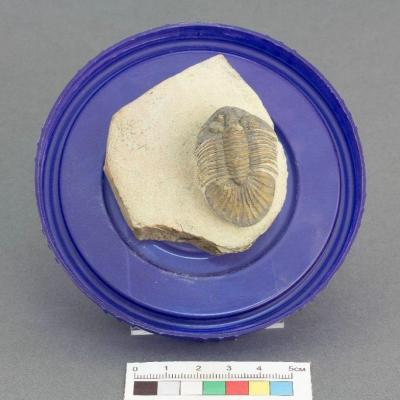natural_science_collection: (193, 106, 286, 228)
